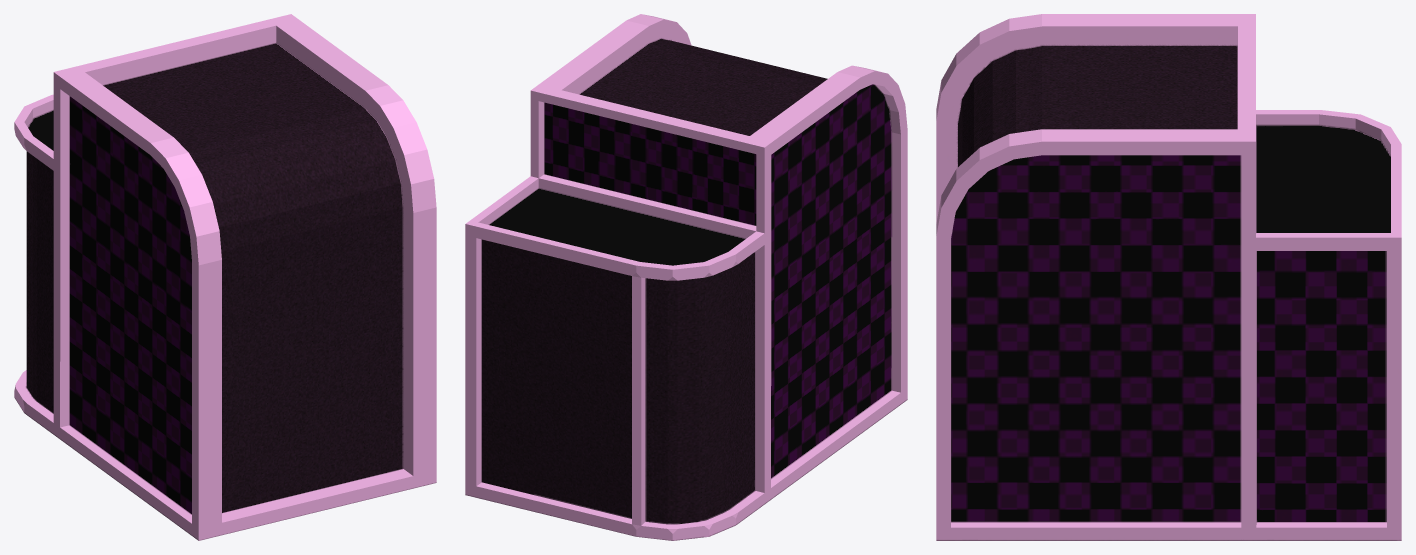
The model's file is block2_b3_MESH.fbx.
3 views of the same model, side by side, from view 1: azimuth 30°, elevation 25°; view 2: azimuth 150°, elevation 25°; view 3: azimuth 270°, elevation 25° (orthographic). The views are drawn at different scales.
Parts seen in each view (by area): view 1: block2_b3_MESH; view 2: block2_b3_MESH; view 3: block2_b3_MESH.
Boxes of the visible parts, x1,y1,x2,y2 form: block2_b3_MESH: [14, 14, 436, 540]; block2_b3_MESH: [465, 14, 907, 540]; block2_b3_MESH: [936, 14, 1401, 540].
Bounding box in the file's own units: 3424 × 5274 × 4990.
